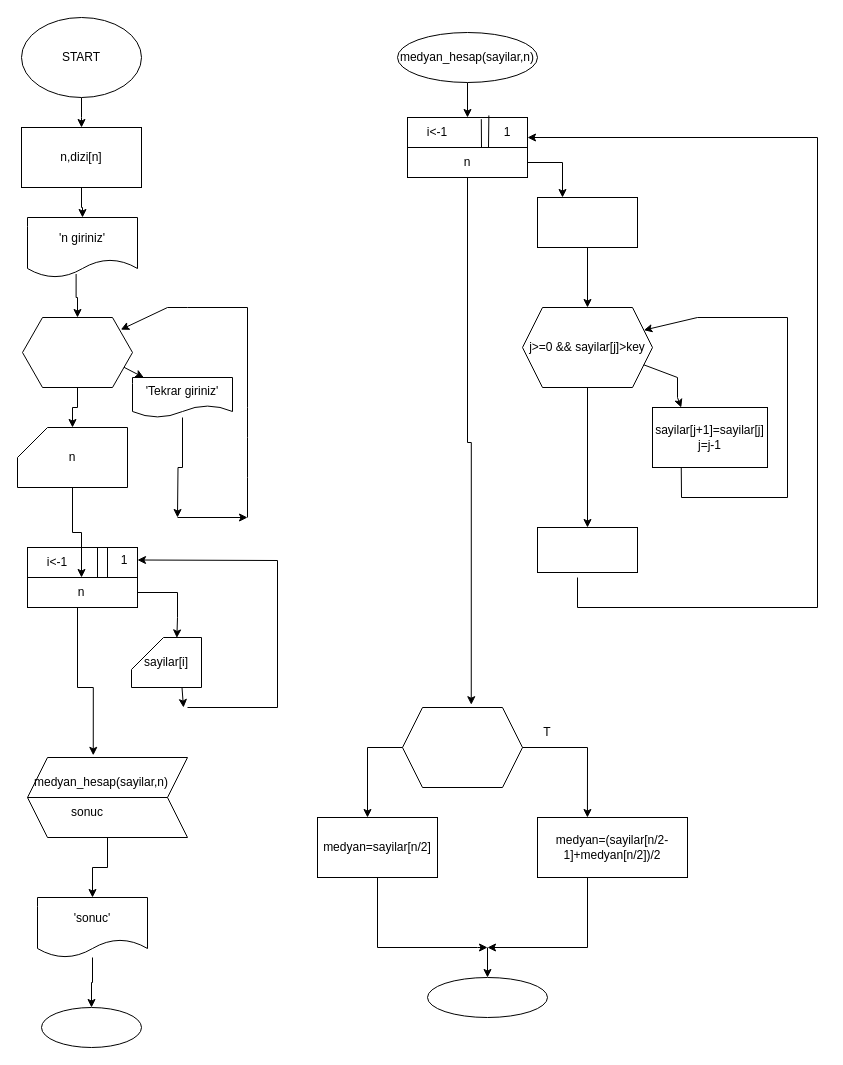
Image size: 843x1065. Some labels were removed from this diagram. Here are the shapes that lost their labels. From the top down, the centre of each, then its label:
the point at 587,222: key=sayilar[i] j=i-1
the point at 77,352: n>10 && n<0
the point at 587,549: sayilar[j+1]=key
the point at 462,747: n%2==0
the point at 487,997: medyan
the point at 91,1027: STOP
